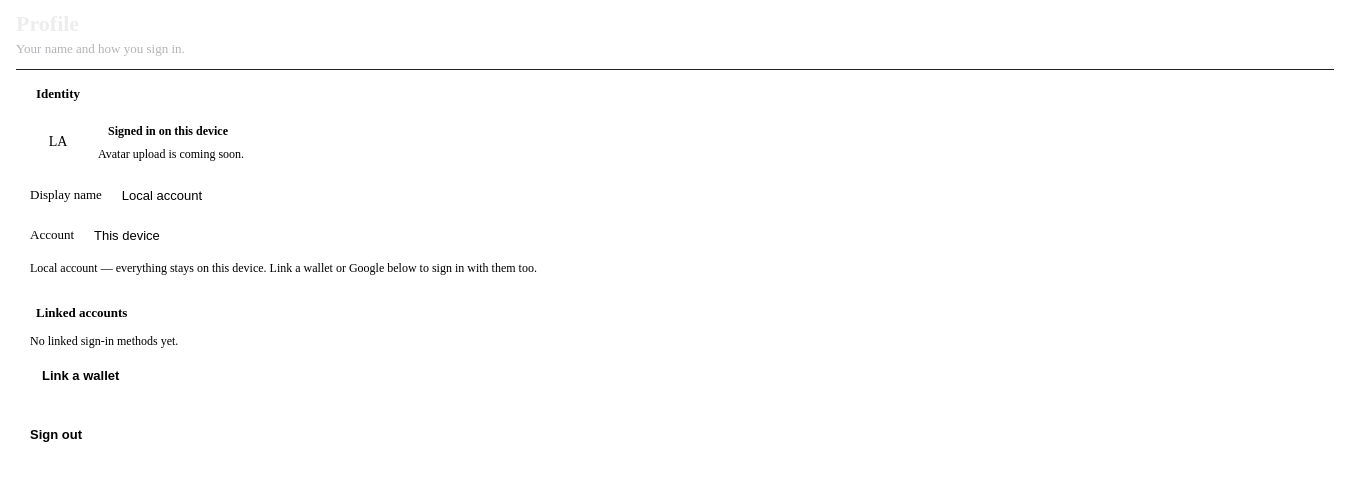
Test: <ProfilePage> device account › REJECTS a wallet-link conflict instead of offering the merge (D2)
This screenshot has width=1351, height=487.
Click the button with test id "profile-link-wallet" at (81,376), box left=30, top=361, right=131, bottom=391
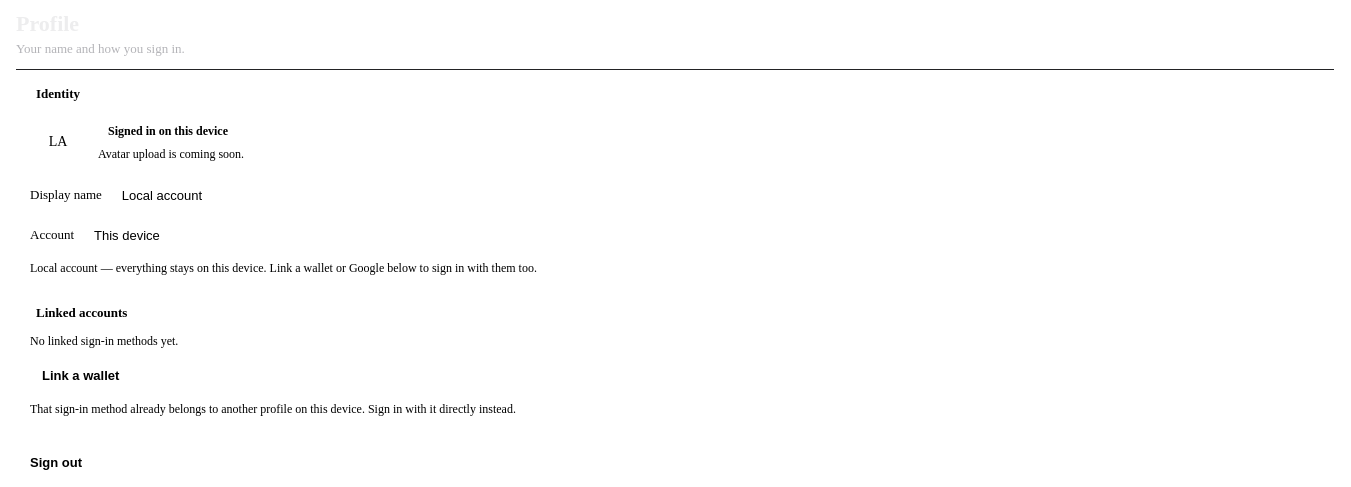
Check: the message with test id "profile-link-error" shows "already belongs to another profile on this device", box left=30, top=402, right=516, bottom=416
